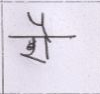ai_matra: (27, 11, 52, 35)
